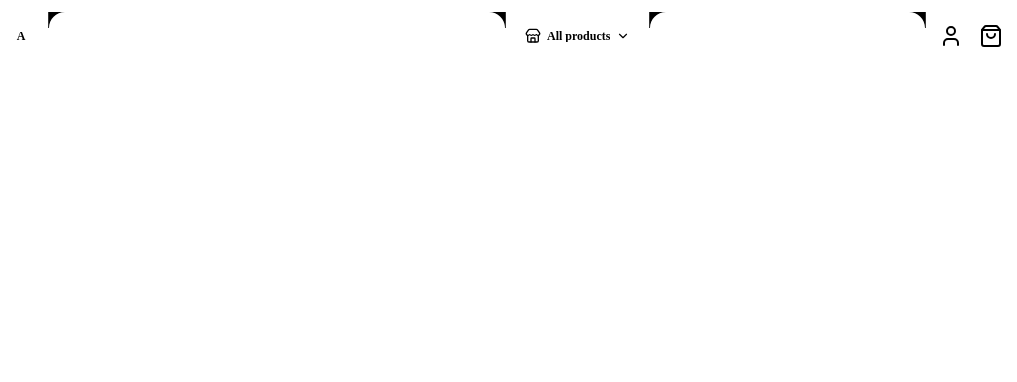
Test case: the header account control › heads the menu with the number for a customer with no name yet
Step 1. Click the button named "Account" → (951, 36), box x1=933 y1=18 x2=969 y2=54
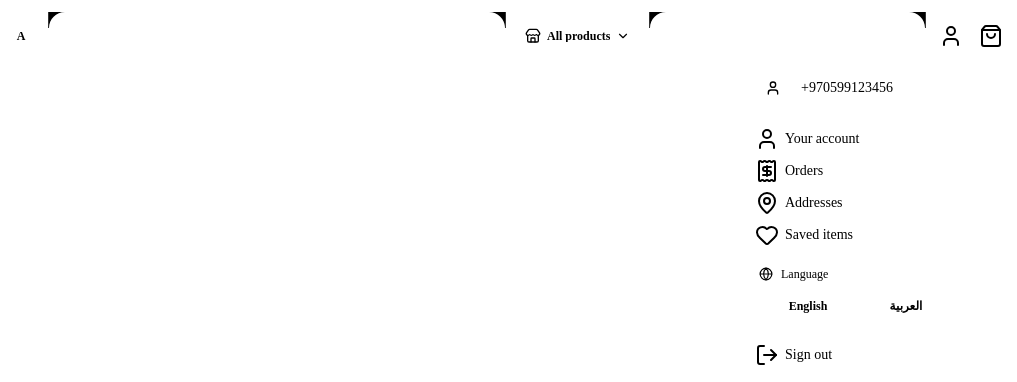
Result: the menu item "Orders" is shown at x1=755 y1=159 x2=823 y2=183
Result: the element showing "+970599123456" is shown at x1=765 y1=80 x2=893 y2=96
